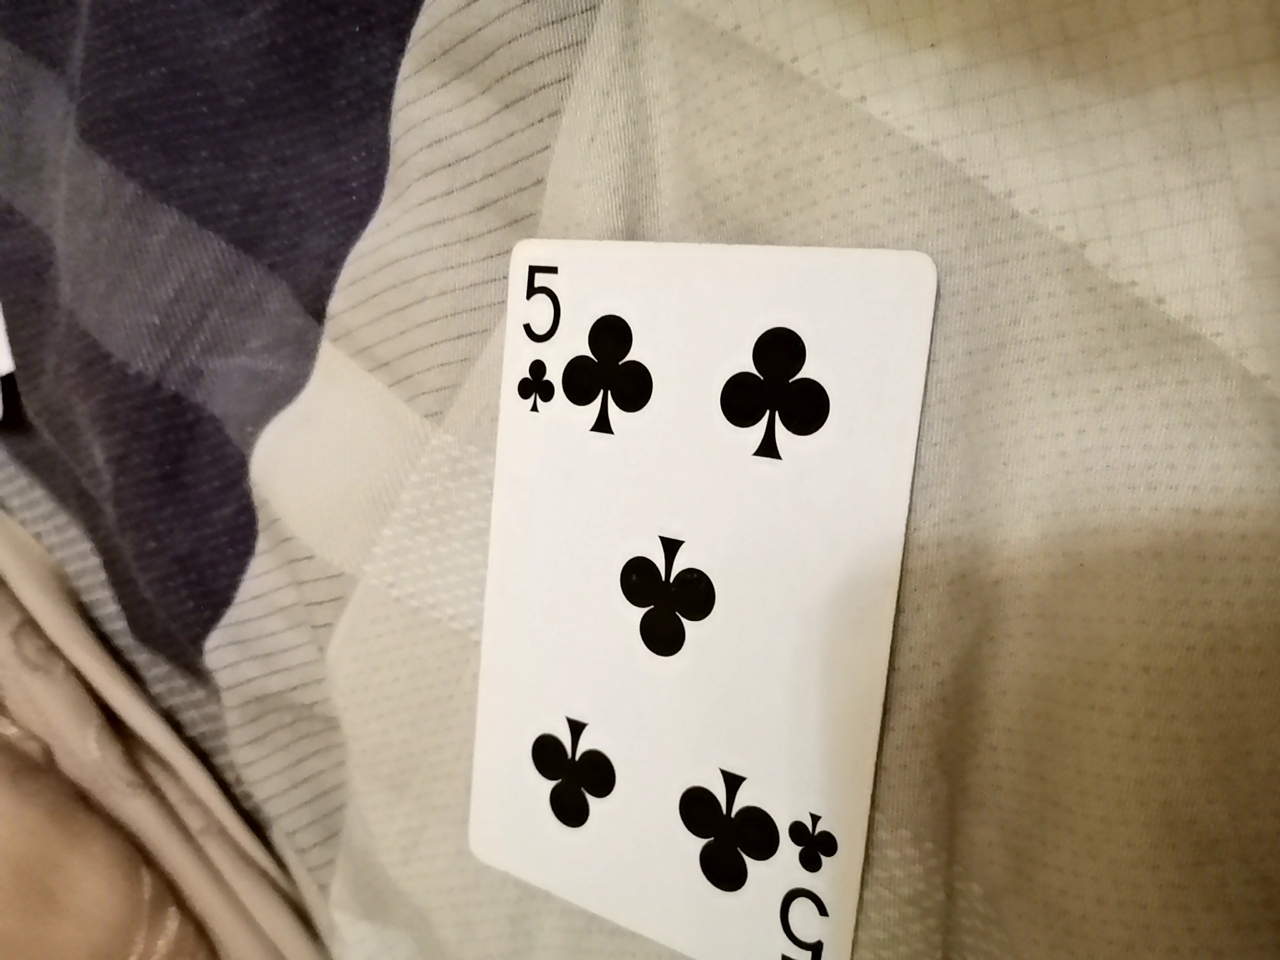mh 5: (458, 248, 935, 947)
